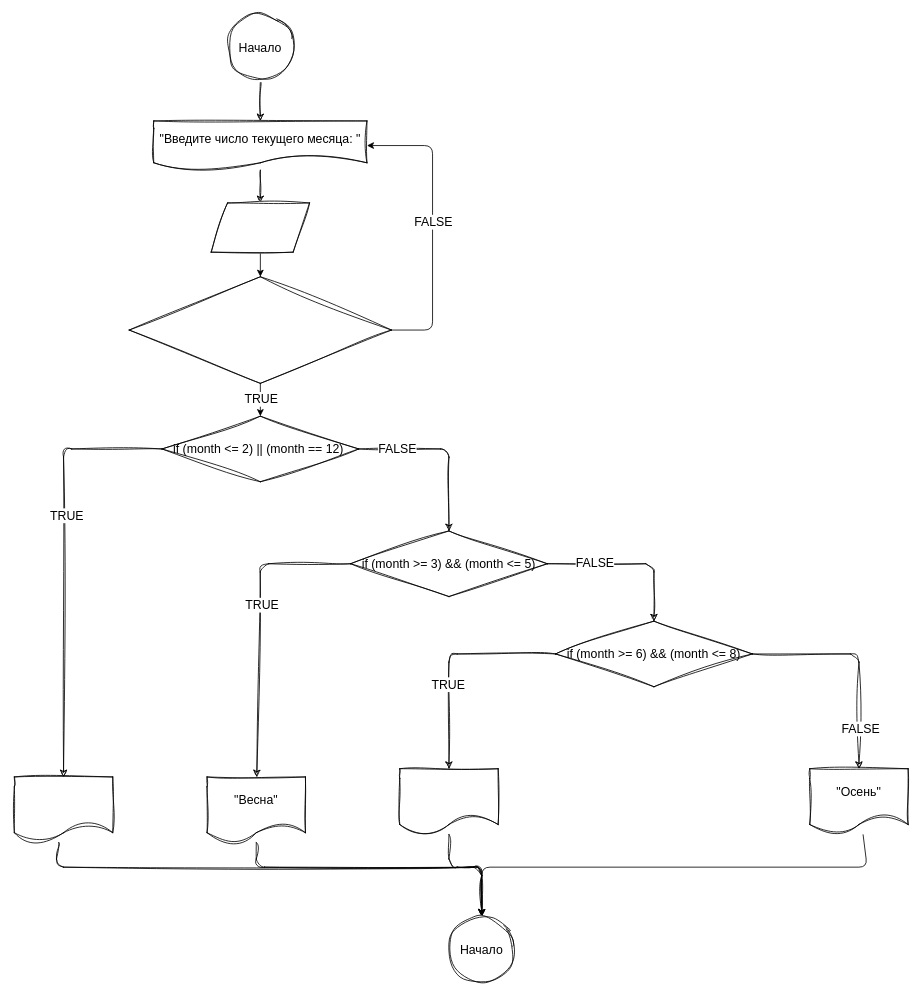
Image size: 923x996. Some labels were removed from this diagram. The shapes that lost their labels are listed below. From the top down, each one's centre as x and y in pixels, then its label:
pixel 260 227: month
pixel 260 329: if (month <= 12) && (month >= 0)
pixel 63 809: "Зима"
pixel 448 801: "Лето"
